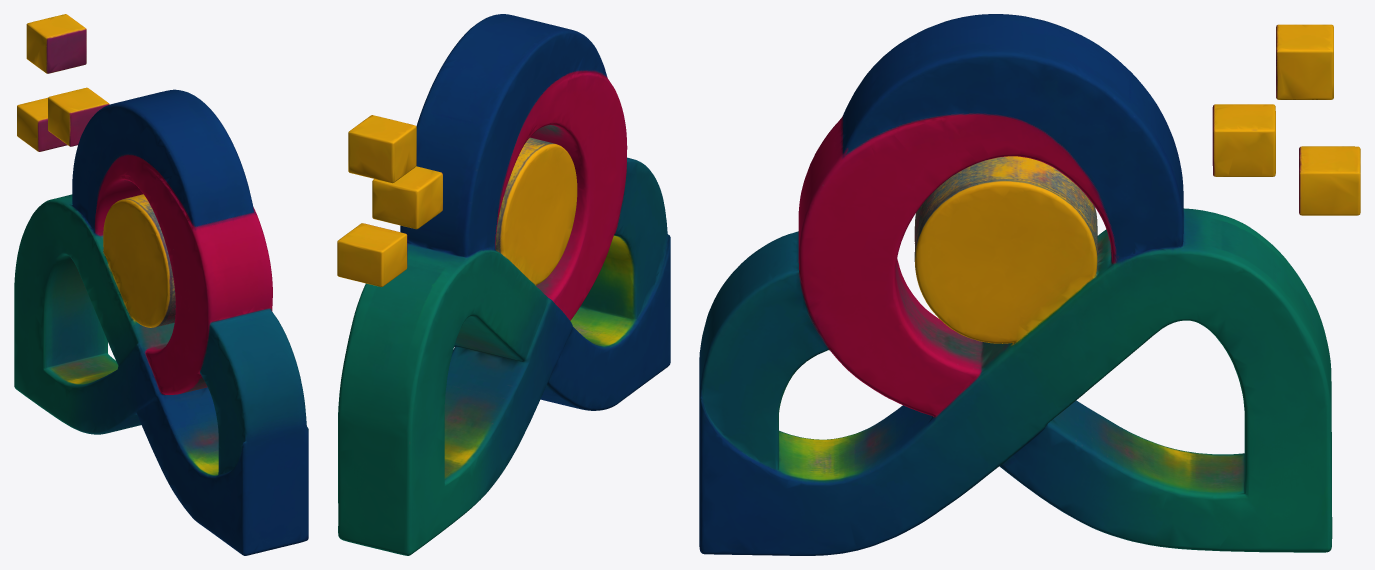
The picture shows the model from 3 angles, left to right: view 1: azimuth 30°, elevation 25°; view 2: azimuth 150°, elevation 25°; view 3: azimuth 270°, elevation 25°; orthographic projection. The views are drawn at different scales.
Visible parts, largest first — view 1: tripo_node_d2306caf-9477-4d16-bdd2-49bcbdb1bfa8; view 2: tripo_node_d2306caf-9477-4d16-bdd2-49bcbdb1bfa8; view 3: tripo_node_d2306caf-9477-4d16-bdd2-49bcbdb1bfa8.
Part boxes in pixels (x1=…): tripo_node_d2306caf-9477-4d16-bdd2-49bcbdb1bfa8: x1=14, y1=14, x2=308, y2=555; tripo_node_d2306caf-9477-4d16-bdd2-49bcbdb1bfa8: x1=337, y1=14, x2=670, y2=555; tripo_node_d2306caf-9477-4d16-bdd2-49bcbdb1bfa8: x1=699, y1=14, x2=1360, y2=555.
Size of the model in its own units: 0.1623 by 0.8432 by 1.
1 material, 1 textured.
